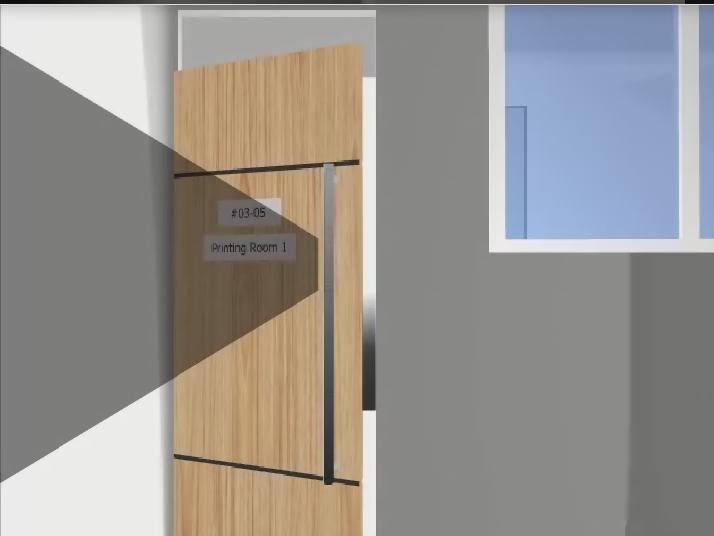door: (174, 42, 363, 536)
